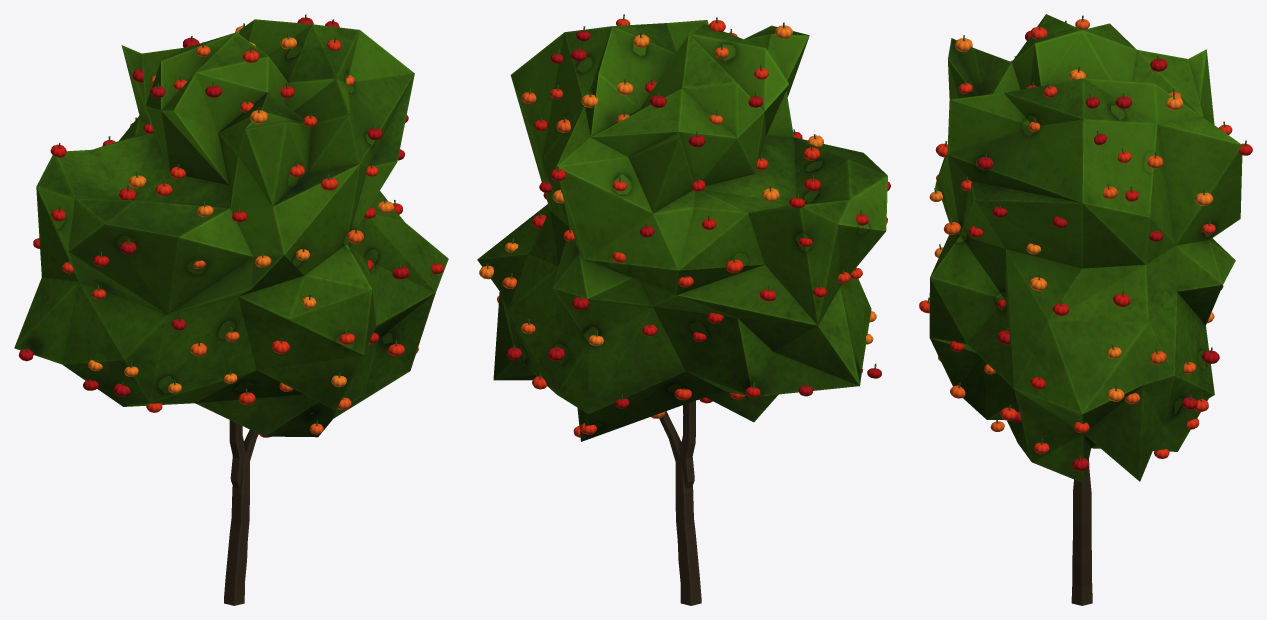
Rendered from pitangueira.glb.
3 renders of one model, left to right at view 1: azimuth 30°, elevation 25°; view 2: azimuth 150°, elevation 25°; view 3: azimuth 270°, elevation 25°, orthographic.
Parts seen in each view (by area): view 1: Pitangueira; view 2: Pitangueira; view 3: Pitangueira.
Part boxes in pixels (bbox=[...]): Pitangueira: bbox=[14, 14, 448, 605]; Pitangueira: bbox=[477, 14, 890, 605]; Pitangueira: bbox=[919, 14, 1252, 605].
Bounding box in the file's own units: 2.3 × 3.01 × 1.59.
2 materials, 1 textured.
